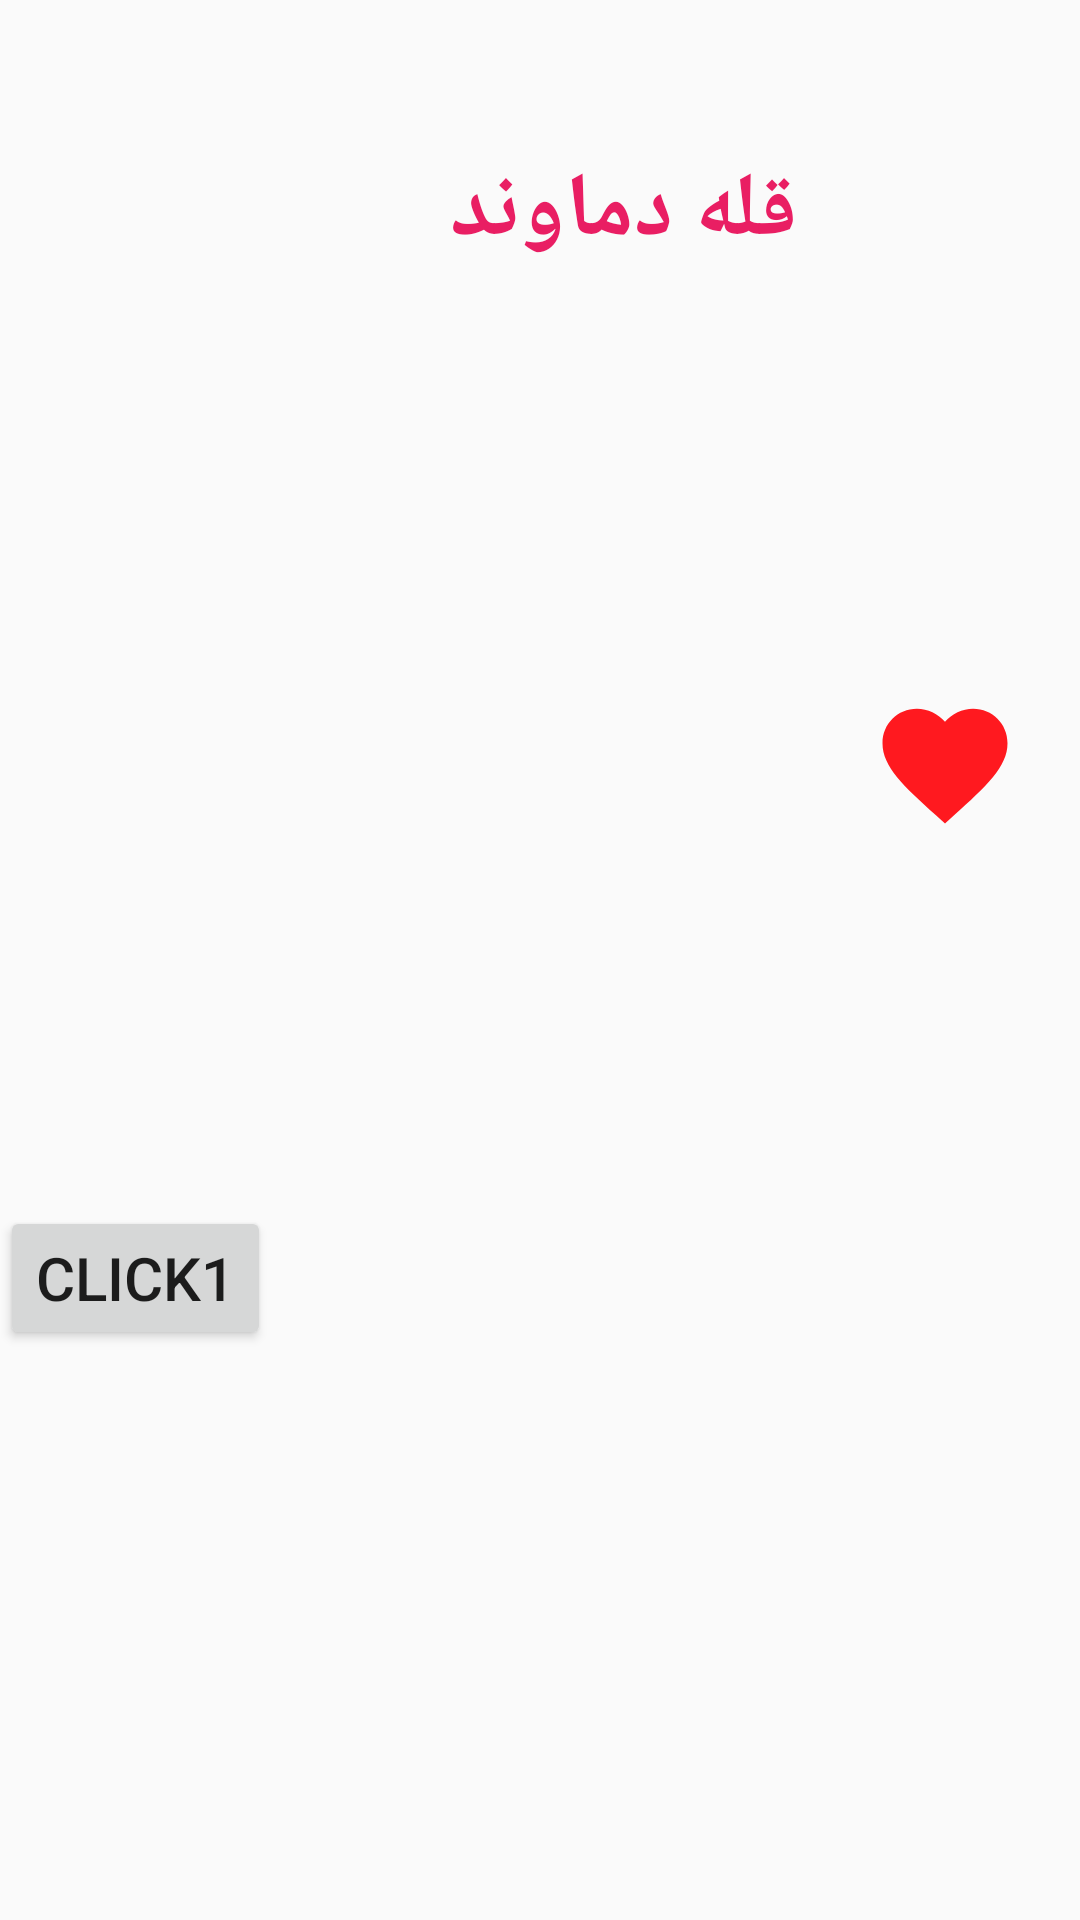

Screen size 1080w x 1920h. Icon name, then its center in pixels as point (x, y):
heart: point (945, 766)
